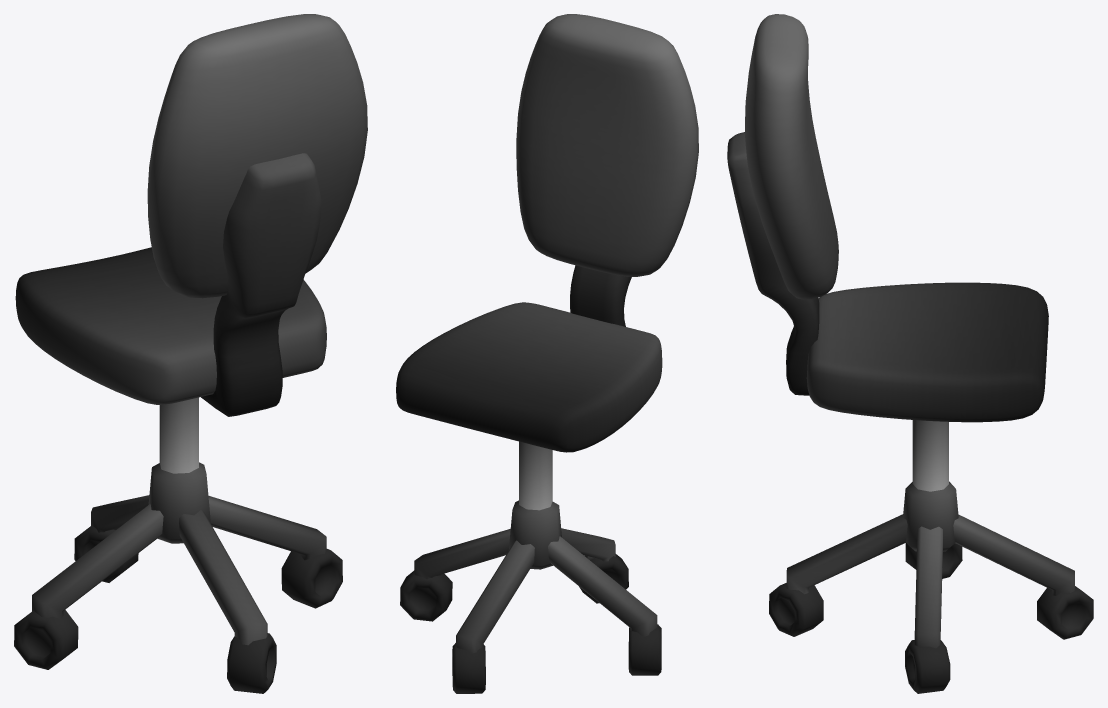
File: chair_001.fbx
3 renders of one model, left to right at view 1: azimuth 30°, elevation 25°; view 2: azimuth 150°, elevation 25°; view 3: azimuth 270°, elevation 25°, orthographic. The views are drawn at different scales.
Parts seen in each view (by area): view 1: chair_001; view 2: chair_001; view 3: chair_001.
Boxes of the visible parts, left/top/right/bottom form: chair_001: left=14, top=14, right=367, bottom=693; chair_001: left=396, top=14, right=698, bottom=693; chair_001: left=727, top=14, right=1093, bottom=693.
Bounding box in the file's own units: 47.61 × 96.67 × 54.13.
